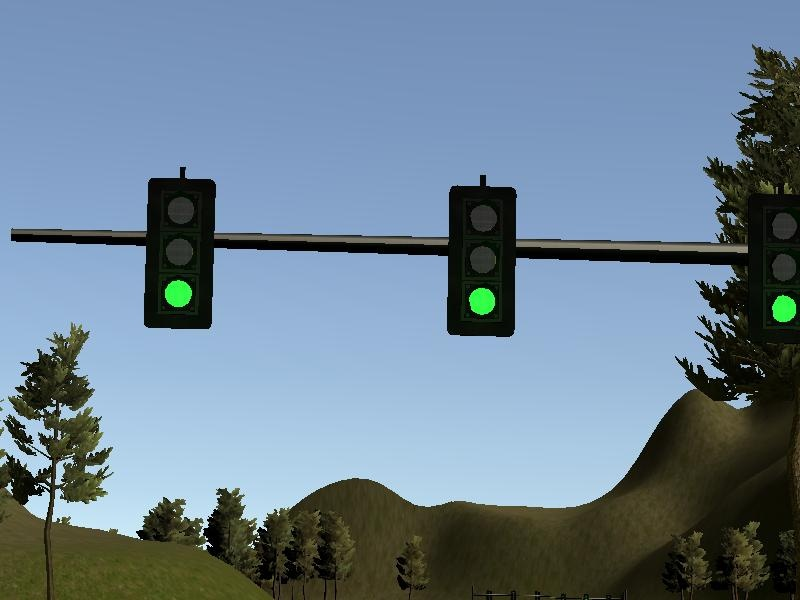GREEN: (145, 179, 214, 329), (446, 185, 515, 335), (749, 195, 800, 340)
